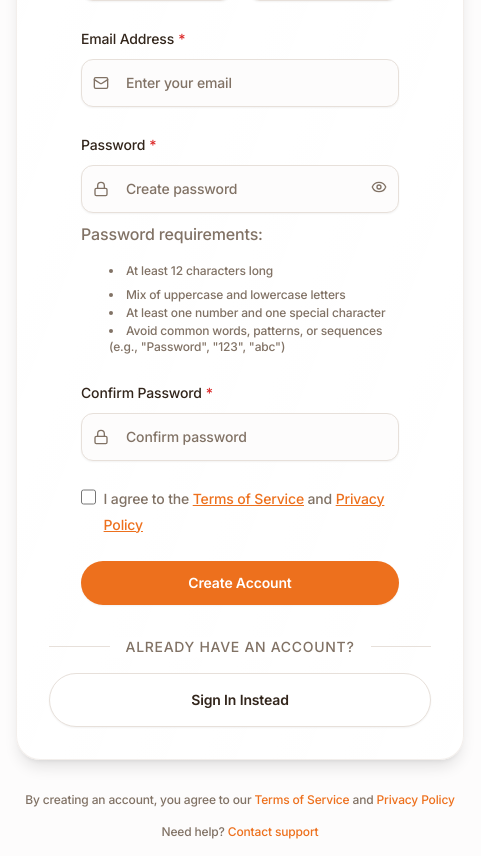
it: RegisterPage › Successful Registration - BUG-FE-020 Fix › should disable form during success redirect wait
(page scrolled)
Step 1. Click the button with test id "submit-button" → (240, 582), box [81,560,399,604]
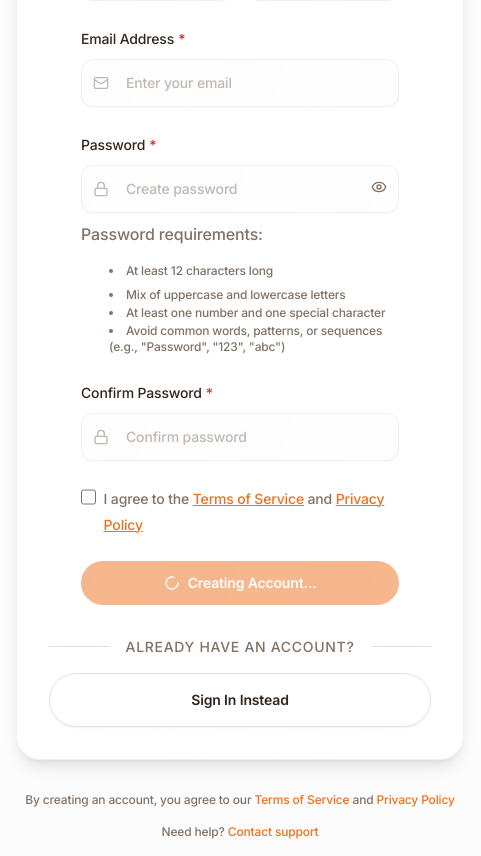
Expected: the button with test id "submit-button" is disabled, [81,560,399,604]
